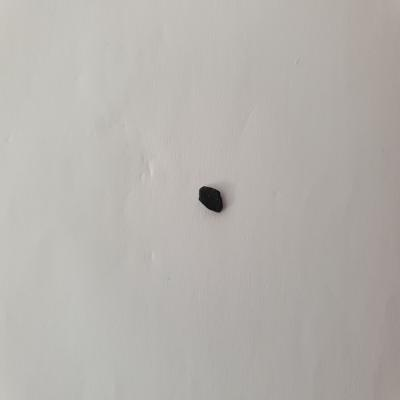plastic: (193, 182, 228, 216)
